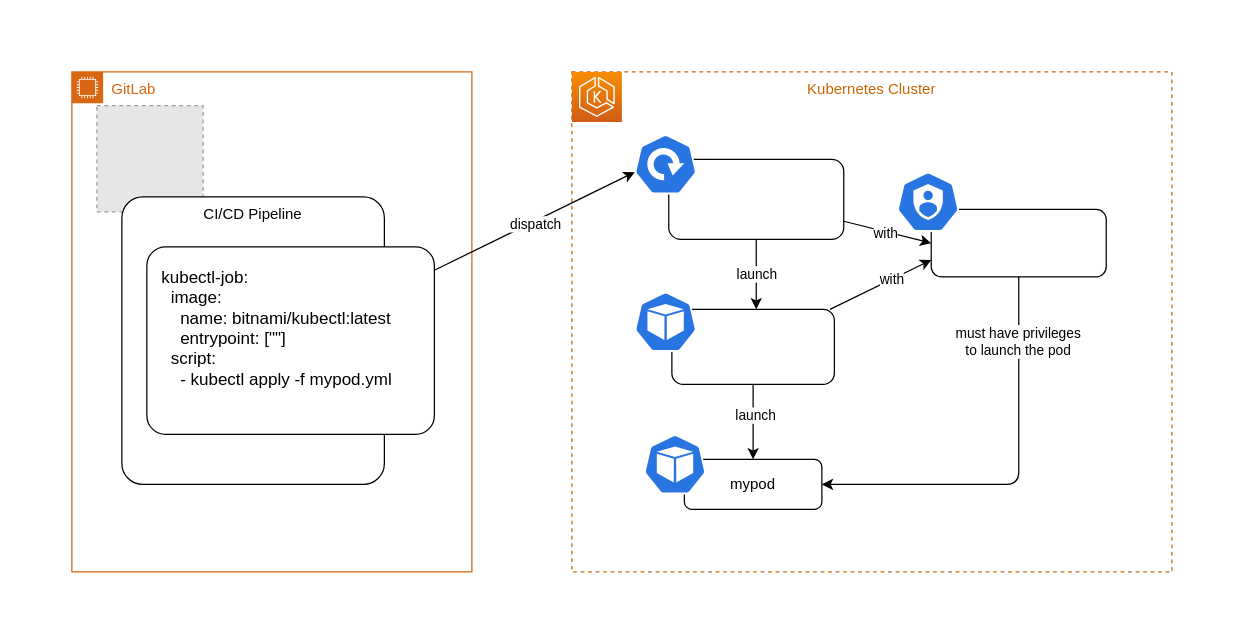
Image size: 1243x643. Some labels were removed from this diagram. Grey dashed boxes stand in for pictures. The centre of each missing label's shape, as x and y in pixels:
GitLab Runner with Kubernetes Executor: the point at 756,198
kubectl-job with bitnami/kubectl: the point at 752,346
Service Account for GitLab Runner: the point at 1018,242
